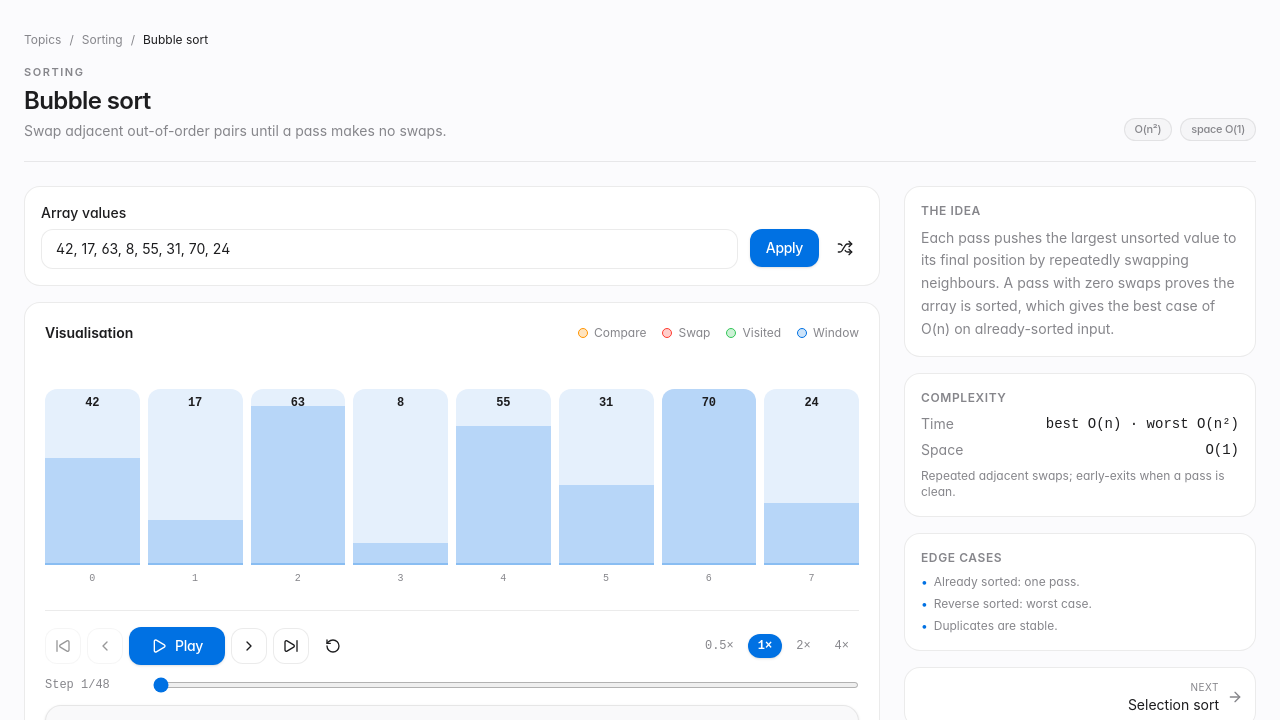
Test: AlgorithmPage › steps forward and backward through the trace
Check: the text "Step 1/" is shown, box left=45, top=678, right=110, bottom=692
Step 1. Click the button named "Next step" → (249, 646), box left=231, top=628, right=267, bottom=664
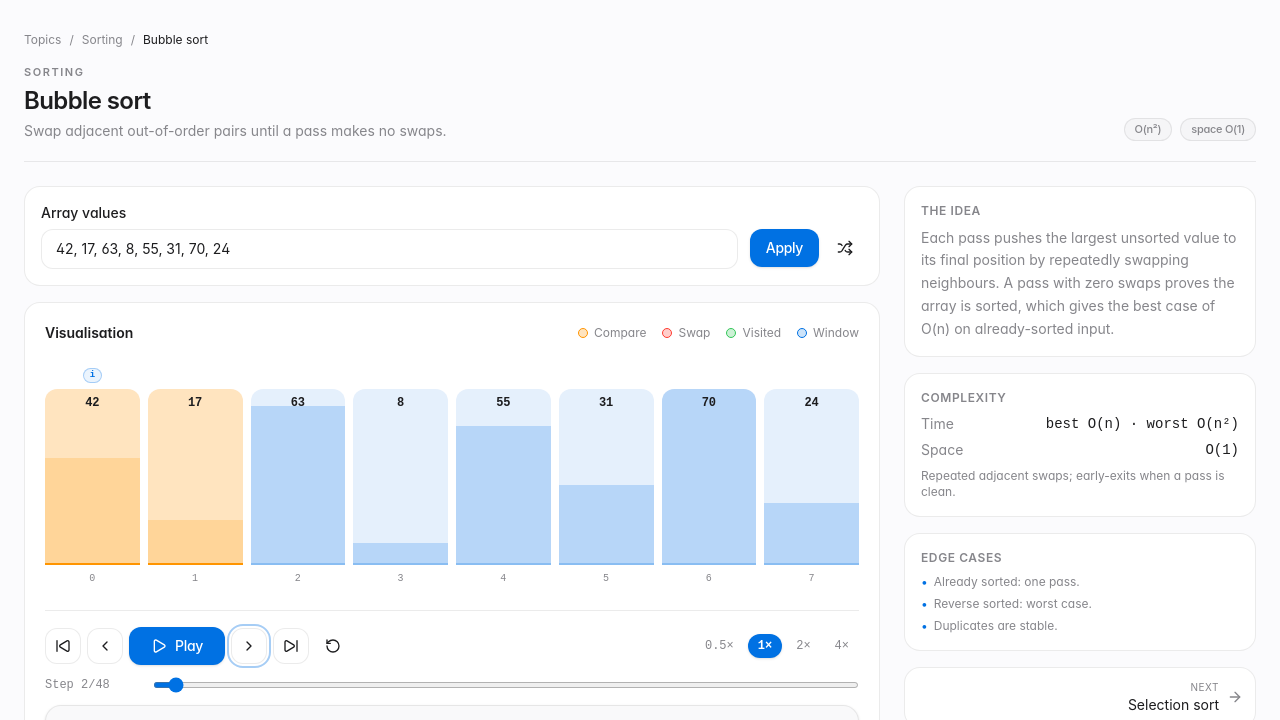
Check: the text "Step 2/" is shown, box left=45, top=678, right=110, bottom=692
Step 2. Click the button named "Previous step" → (105, 646), box left=87, top=628, right=123, bottom=664
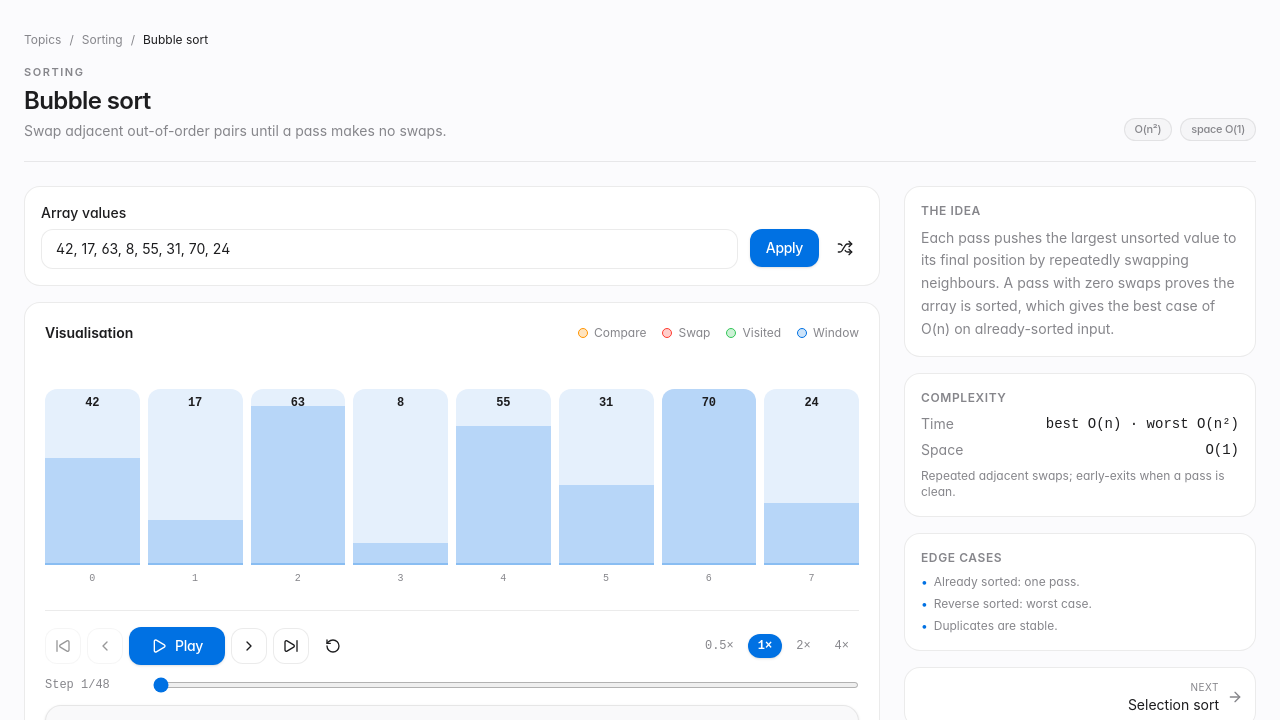
Check: the text "Step 1/" is shown, box left=45, top=678, right=110, bottom=692
